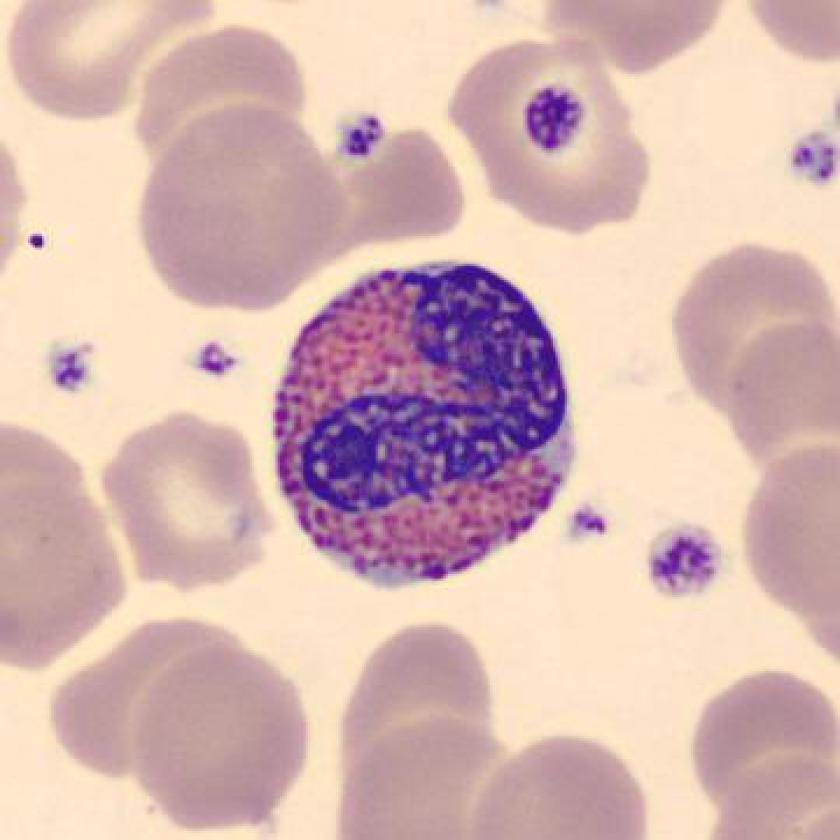eosinophil: (265, 256, 591, 603)
